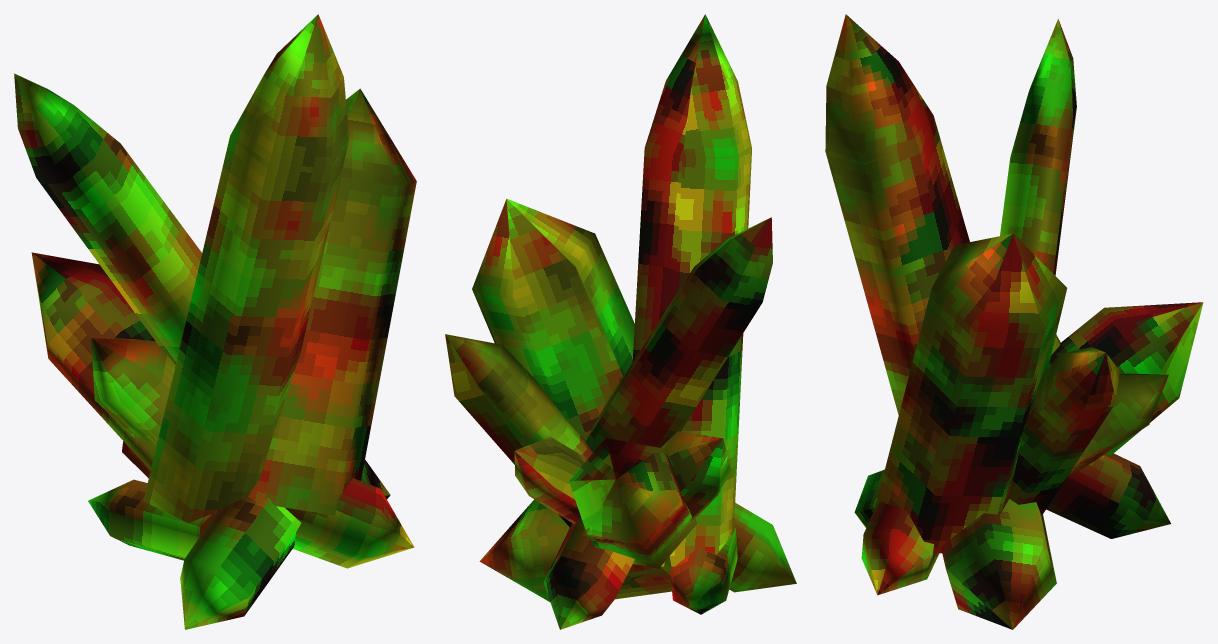
File: af_cristall.fbx
3 views of the same model, side by side, from view 1: azimuth 30°, elevation 25°; view 2: azimuth 150°, elevation 25°; view 3: azimuth 270°, elevation 25° (orthographic). The views are drawn at different scales.
Visible parts, largest first — view 1: 0; view 2: 0; view 3: 0.
Boxes of the visible parts, bbox=[...] form: 0: bbox=[14, 14, 416, 629]; 0: bbox=[445, 14, 796, 629]; 0: bbox=[825, 14, 1203, 629].
Size of the model in its own units: 0.2368 by 0.3889 by 0.234.
